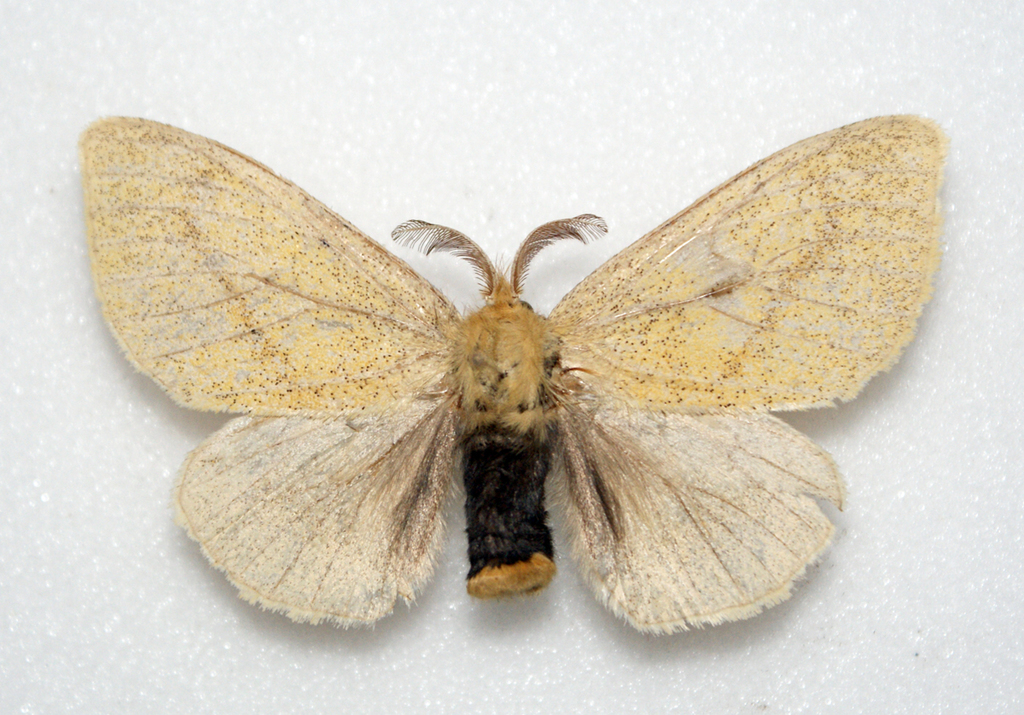Butterfly: (52, 96, 975, 654)
